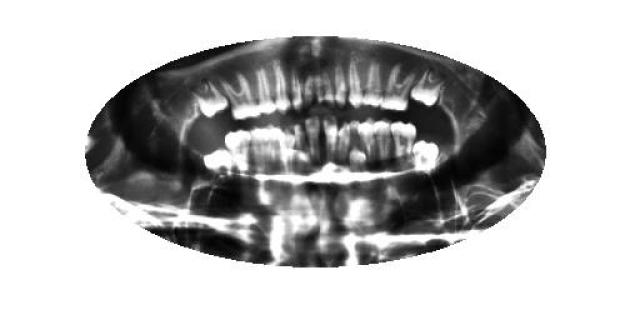Restorations: (190, 78, 231, 122), (409, 69, 446, 109), (411, 139, 440, 175)
